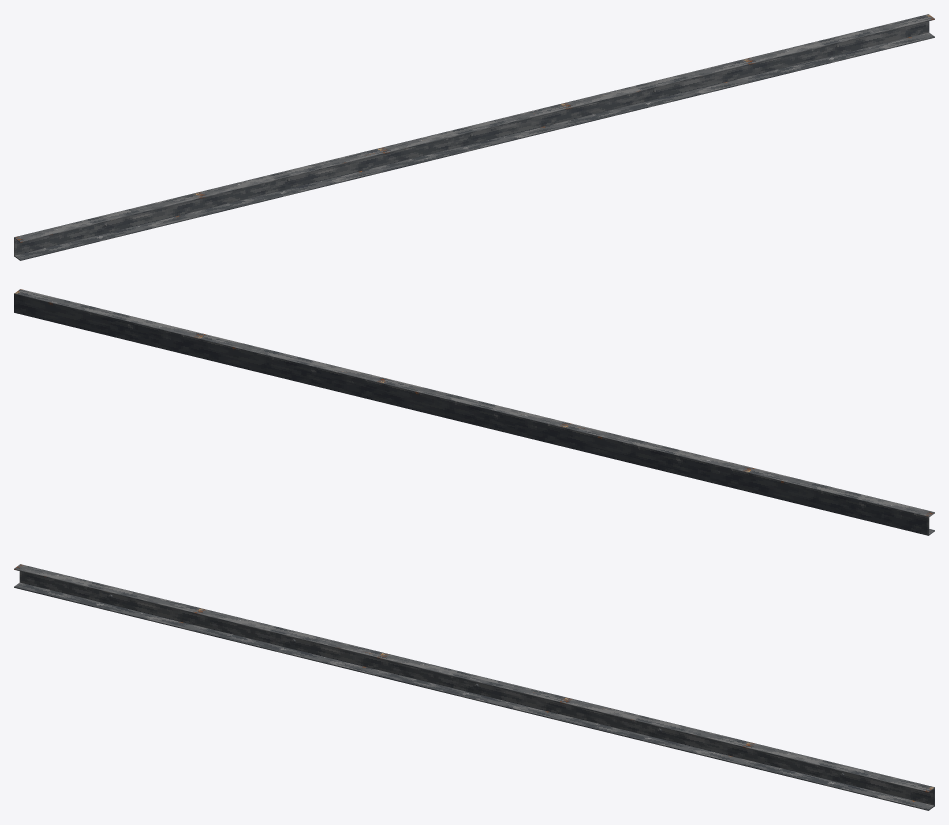
Rendered from gk_channel.glb.
The picture shows the model from 3 angles, top to bottom: view 1: azimuth 30°, elevation 25°; view 2: azimuth 150°, elevation 25°; view 3: azimuth 330°, elevation 25°; orthographic projection.
Visible parts, largest first — view 1: mesh; view 2: mesh; view 3: mesh.
Part boxes in pixels (x1=…): mesh: x1=14, y1=14, x2=934, y2=260; mesh: x1=14, y1=289, x2=934, y2=535; mesh: x1=14, y1=564, x2=934, y2=810.
Size of the model in its own units: 5 by 0.1001 by 0.0598.
Materials: 1 (1 with a texture image).
